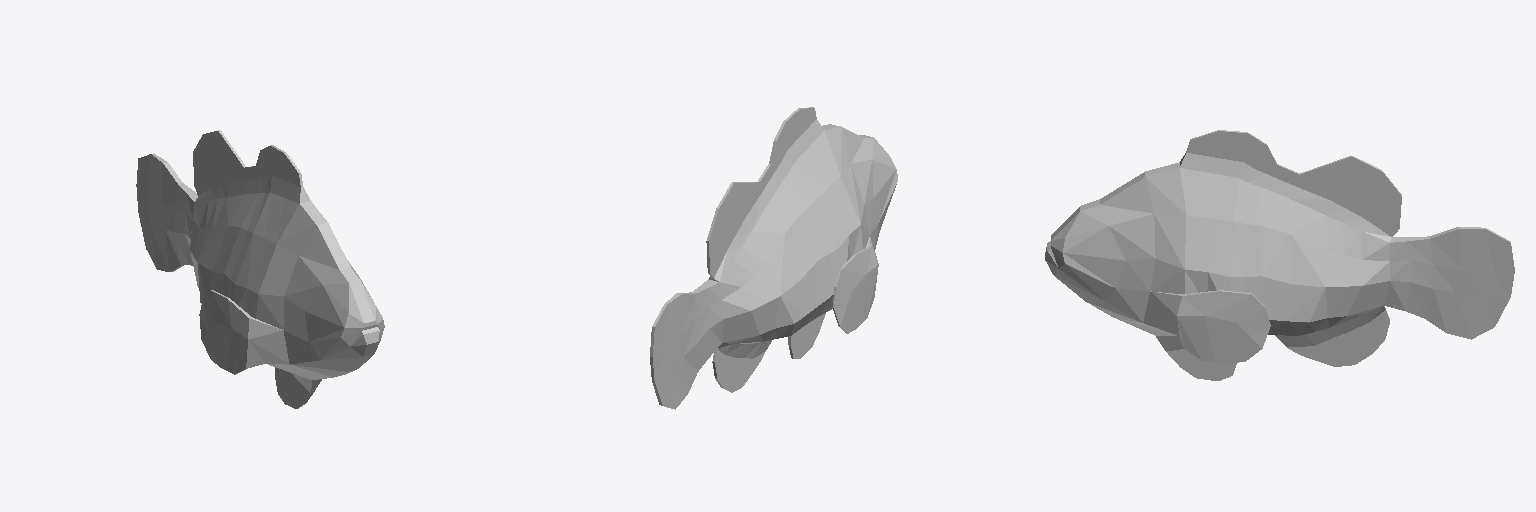
The model's file is fish12.obj.
3 views of the same model, side by side, from view 1: azimuth 30°, elevation 25°; view 2: azimuth 150°, elevation 25°; view 3: azimuth 270°, elevation 25° (orthographic).
Parts seen in each view (by area): view 1: TropicalFish12:TropicalFish12; view 2: TropicalFish12:TropicalFish12; view 3: TropicalFish12:TropicalFish12.
Boxes of the visible parts, x1=… form: TropicalFish12:TropicalFish12: x1=136, y1=130, x2=384, y2=408; TropicalFish12:TropicalFish12: x1=650, y1=107, x2=897, y2=409; TropicalFish12:TropicalFish12: x1=1045, y1=130, x2=1514, y2=380.
Size of the model in its own units: 2.26 by 4.26 by 7.25.